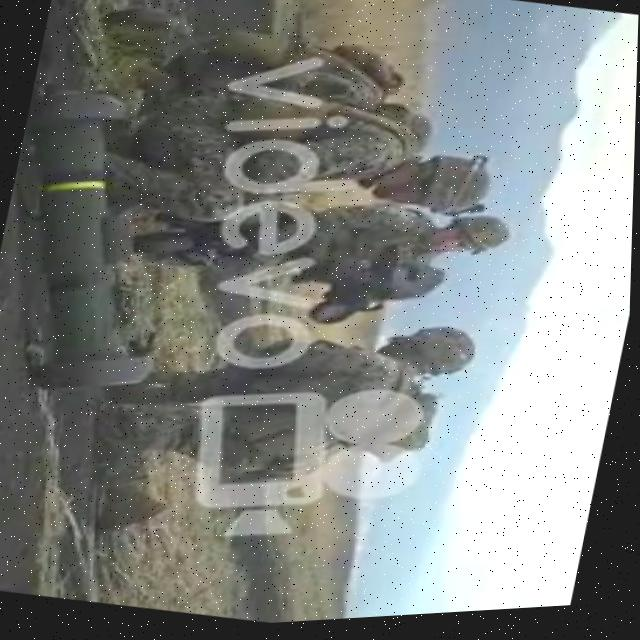rocket: (0, 59, 209, 414)
